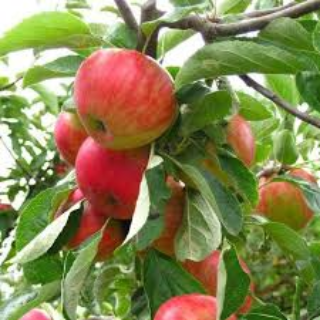tao: (69, 44, 182, 152)
